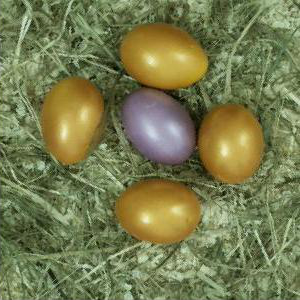egg: (113, 177, 202, 245), (120, 23, 210, 90), (120, 90, 196, 166), (197, 104, 266, 185), (42, 76, 105, 164)
